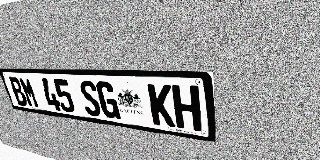4: (39, 78, 62, 111)
5: (53, 79, 76, 113)
B: (8, 77, 29, 106)
G: (95, 81, 121, 120)
H: (172, 85, 202, 131)
K: (147, 83, 176, 128)
M: (18, 77, 40, 108)
S: (78, 80, 103, 117)
